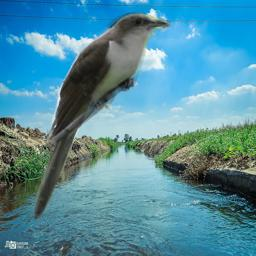Cuckoo: (27, 10, 171, 225)
